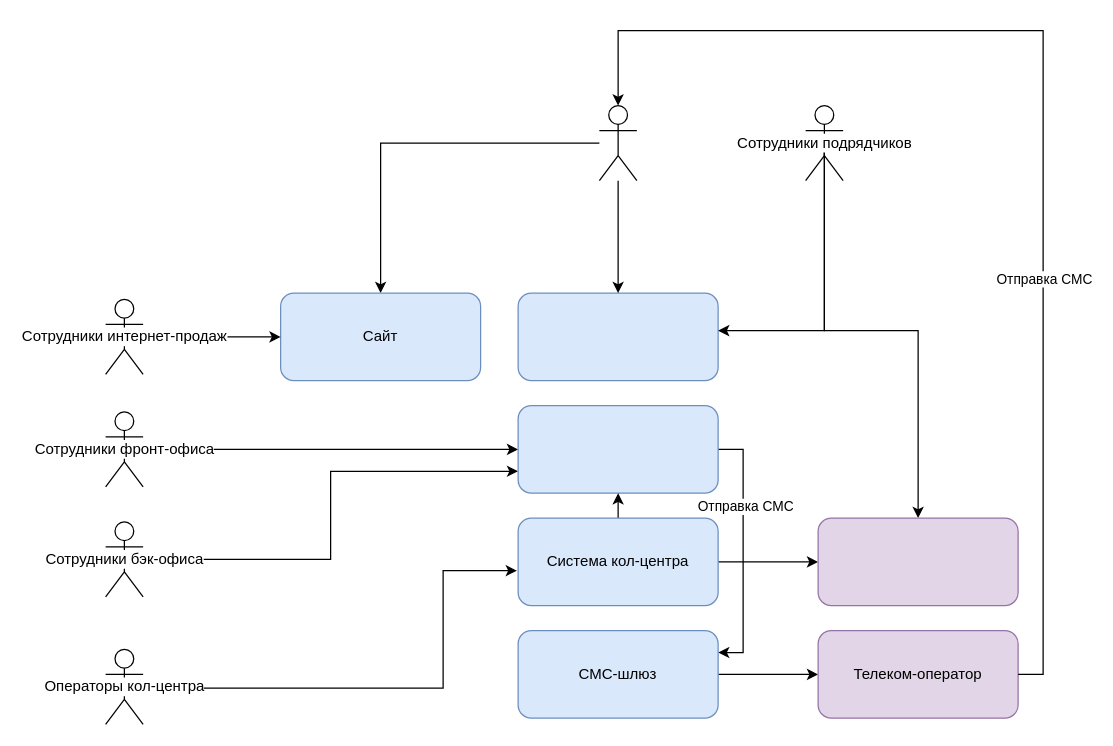
Image size: 1113x746. Some labels were removed from this diagram. The box of each missing label's shape, as (x1, y1, x2, y2) in pixels:
Автоматизированная банковская система (АБС): (517, 404, 718, 493)
Интернет-банк: (517, 292, 718, 381)
Клиент: (598, 104, 637, 181)
Система партнерского кол-центра: (817, 517, 1018, 606)
